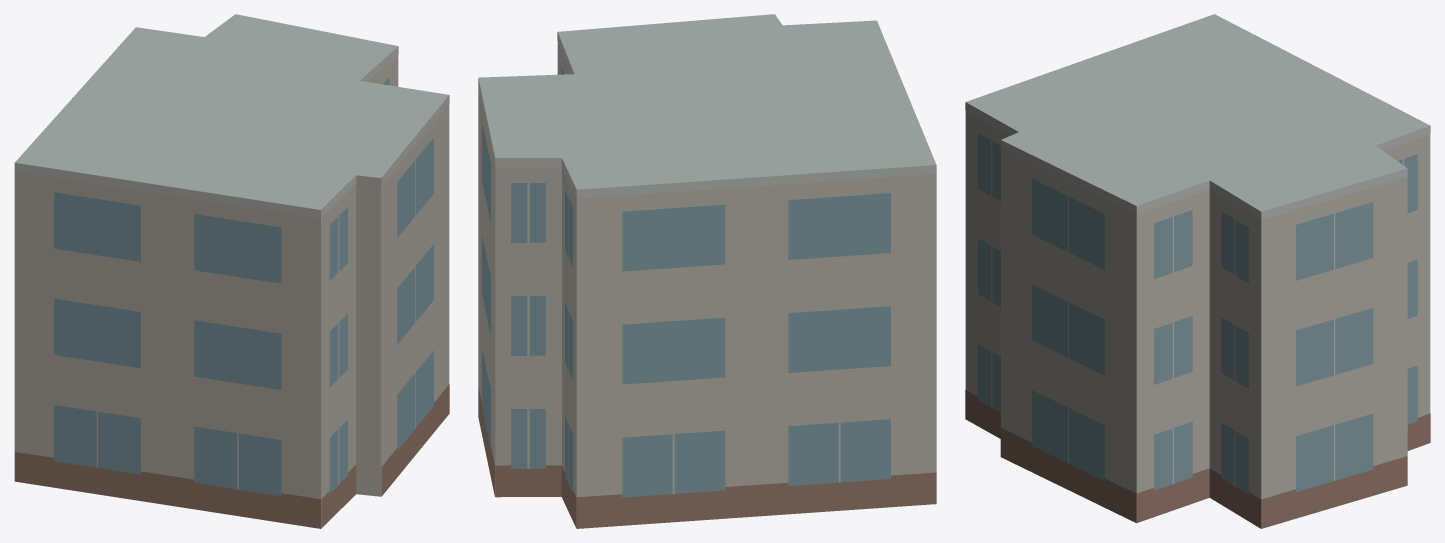
File: survey-upis-32748188.glb
3 renders of one model, left to right at view 1: azimuth 30°, elevation 25°; view 2: azimuth 150°, elevation 25°; view 3: azimuth 270°, elevation 25°, orthographic. The views are drawn at different scales.
Visible parts, largest first — view 1: survey-upis-32748188.tmp; view 2: survey-upis-32748188.tmp; view 3: survey-upis-32748188.tmp.
Boxes of the visible parts, <box> form: survey-upis-32748188.tmp: <box>14,14,449,528</box>; survey-upis-32748188.tmp: <box>478,14,936,528</box>; survey-upis-32748188.tmp: <box>965,14,1430,528</box>.
Size of the model in its own units: 12.24 by 9.15 by 12.17.
